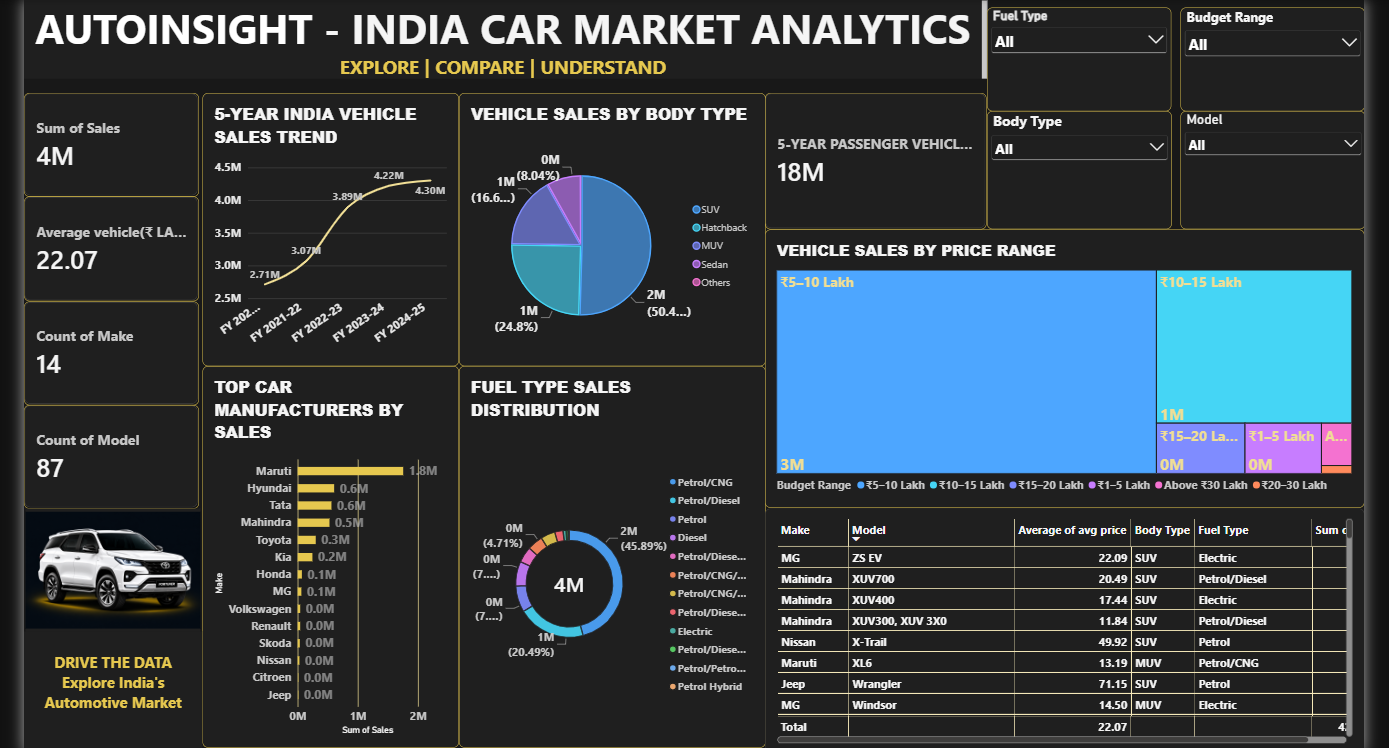

Layout of this report page (visuals, bound fields, positions):
{"tool":"powerbi","page":{"name":"Page 1","canvas":[1920,1080],"ordinal":0},"visuals":[{"type":"textbox","box":[0,0,1380,112.5],"z":0},{"type":"cardVisual","fields":{"Data":["Count(Combined Dataset.Model)"]},"box":[0,579.8,250.4,148.9],"z":1000},{"type":"cardVisual","fields":{"Data":["Count(Combined Dataset.Make)"]},"box":[0,432.5,250.4,148.9],"z":2000},{"type":"cardVisual","fields":{"Data":["Sum(Combined Dataset.Sales)1"]},"box":[0,132.5,250.4,148.9],"z":3000},{"type":"cardVisual","title":"                                                                                                    ","fields":{"Data":["Avg(Combined Dataset.avg price)"]},"box":[0,281.5,250.5,150.3],"z":4000},{"type":"slicer","fields":{"Values":["Combined Dataset.Fuel Type"]},"box":[1380,10,264,148.9],"z":5000},{"type":"slicer","fields":{"Values":["Combined Dataset.Budget Range"]},"box":[1656.2,10.4,264,148.9],"z":6000},{"type":"slicer","fields":{"Values":["Combined Dataset.Body Type"]},"box":[1379.1,159.9,264.8,169.4],"z":7000},{"type":"slicer","fields":{"Values":["Combined Dataset.Model"]},"box":[1655.8,159.9,264.8,169.4],"z":8000},{"type":"clusteredBarChart","title":"TOP CAR MANUFACTURERS BY SALES","fields":{"Category":["Combined Dataset.Make"],"Y":["Sum(Combined Dataset.Sales)"]},"box":[255.3,524.9,367.4,546.4],"z":10000},{"type":"pieChart","title":"\tVEHICLE SALES BY BODY TYPE","fields":{"Category":["Combined Dataset.Body Type"],"Y":["Sum(Combined Dataset.Sales)"]},"box":[622.7,133.6,439,391.3],"z":11000},{"type":"donutChart","title":"FUEL TYPE SALES DISTRIBUTION","fields":{"Category":["Combined Dataset.Fuel Type"],"Y":["Sum(Combined Dataset.Sales)"]},"box":[622.7,524.9,439,546.4],"z":12000},{"type":"treemap","title":"VEHICLE SALES BY PRICE RANGE","fields":{"Group":["Combined Dataset.Budget Range"],"Values":["Sum(Combined Dataset.Sales)"]},"box":[1061.7,329.3,858.9,398.4],"z":13000},{"type":"lineChart","title":"5-YEAR INDIA VEHICLE SALES TREND","fields":{"Category":["SIAM 5-Year Data.Financial Year"],"Y":["Sum(SIAM 5-Year Data.Total Passenger Vehicle Sales)"]},"box":[255.3,133.6,367.4,391.3],"z":14000},{"type":"tableEx","fields":{"Values":["Combined Dataset.Make","Combined Dataset.Model","Avg(Combined Dataset.avg price)","Combined Dataset.Body Type","Combined Dataset.Fuel Type","Sum(Combined Dataset.Sales)"]},"box":[1061.7,727.7,858.9,353.1],"z":15000},{"type":"cardVisual","fields":{"Data":["Sum(SIAM 5-Year Data.Total Passenger Vehicle Sales)"]},"box":[1061.7,133.6,317.3,195.6],"z":16000},{"type":"textbox","box":[0,904.3,255.3,176.6],"z":16001},{"type":"image","box":[2.4,727.7,250.5,176.6],"z":16002}]}

Visuals, with their boxes on the page's 1920x1080 design canvas (x1, y1, x2, y2). These are canvas units, not pixel positions in the 1389x748 screenshot, which may show the page scaled, cropped or inside an application window:
textbox: (0,0,1380,112)
cardVisual - Count(Combined Dataset.Model): (0,580,250,729)
cardVisual - Count(Combined Dataset.Make): (0,432,250,581)
cardVisual - Sum(Combined Dataset.Sales)1: (0,132,250,281)
"                                                                                                    " cardVisual: (0,282,250,432)
slicer - Combined Dataset.Fuel Type: (1380,10,1644,159)
slicer - Combined Dataset.Budget Range: (1656,10,1920,159)
slicer - Combined Dataset.Body Type: (1379,160,1644,329)
slicer - Combined Dataset.Model: (1656,160,1921,329)
"TOP CAR MANUFACTURERS BY SALES" clusteredBarChart: (255,525,623,1071)
"	VEHICLE SALES BY BODY TYPE" pieChart: (623,134,1062,525)
"FUEL TYPE SALES DISTRIBUTION" donutChart: (623,525,1062,1071)
"VEHICLE SALES BY PRICE RANGE" treemap: (1062,329,1921,728)
"5-YEAR INDIA VEHICLE SALES TREND" lineChart: (255,134,623,525)
tableEx - Combined Dataset.Make x Combined Dataset.Model: (1062,728,1921,1081)
cardVisual - Sum(SIAM 5-Year Data.Total Passenger Vehicle Sales): (1062,134,1379,329)
textbox: (0,904,255,1081)
image: (2,728,253,904)
